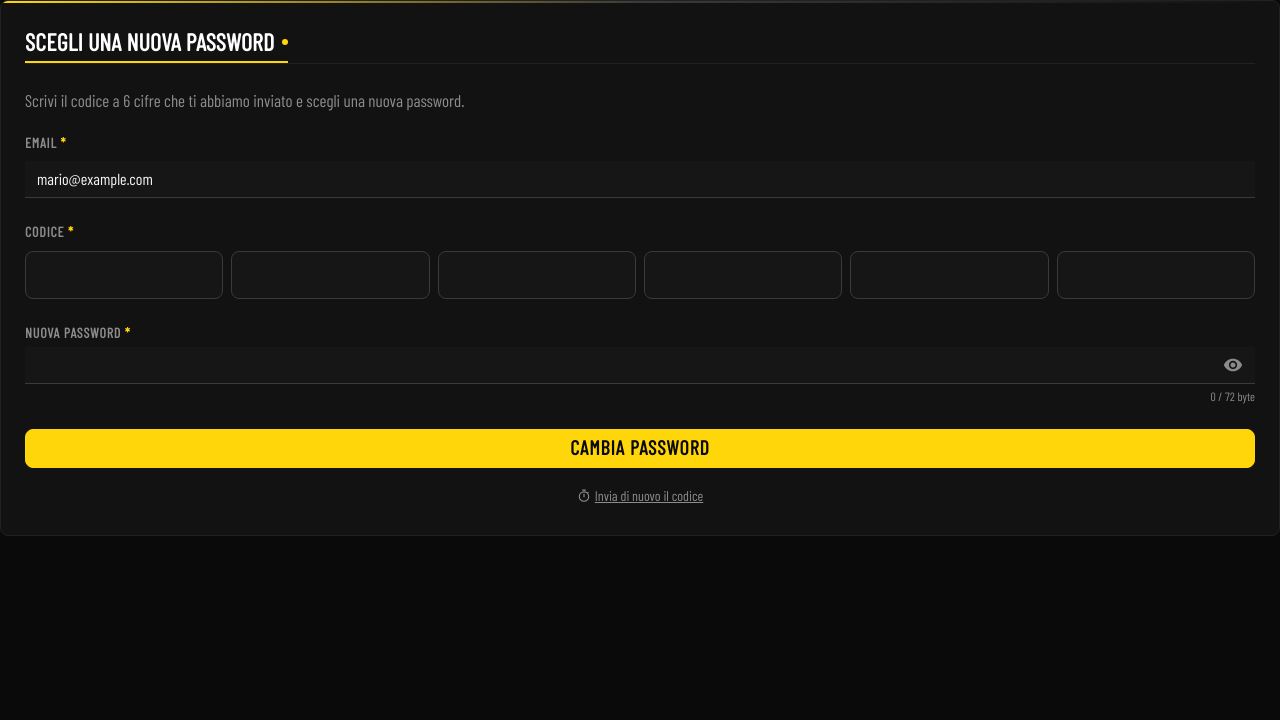
Test: ResetPasswordPage · errori del backend › ACCOUNT_SUSPENDED: mostra l’avviso con motivo e scadenza
The image size is (1280, 720).
Click the field named "Cifra 1 di 6". click: [124, 275]
box: x1=25 y1=251 x2=223 y2=299
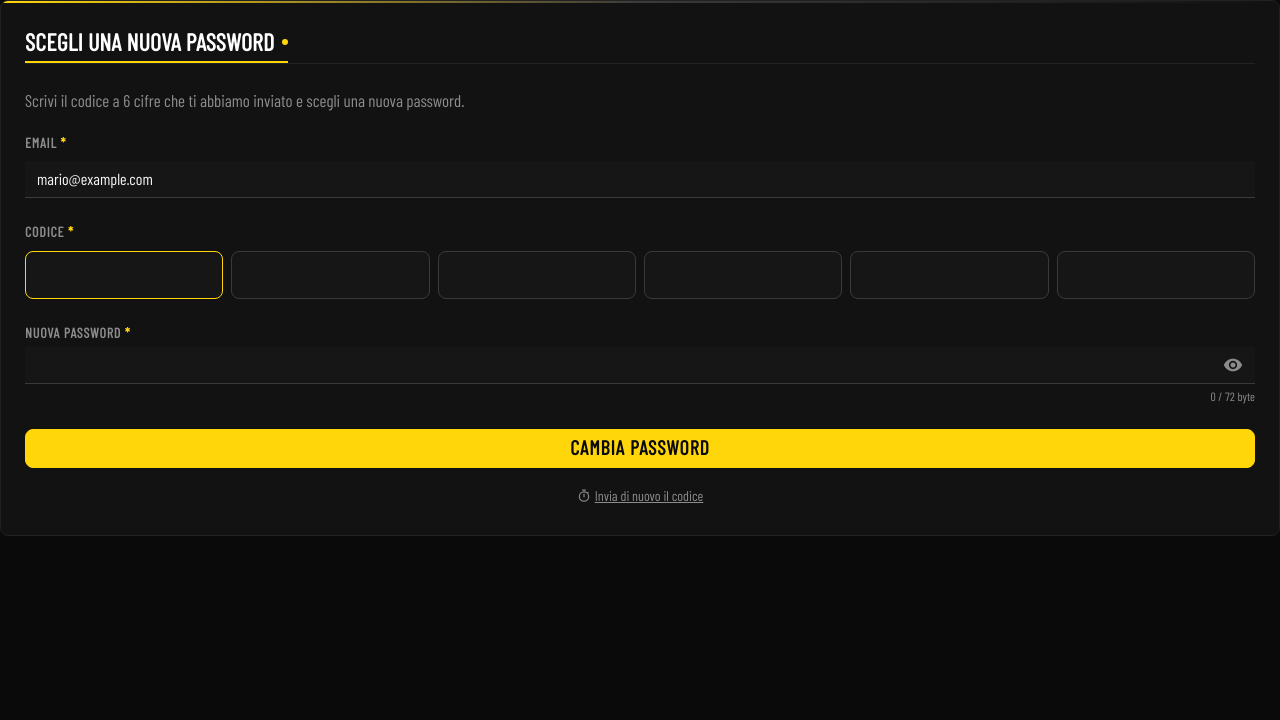
Type keys "482019"
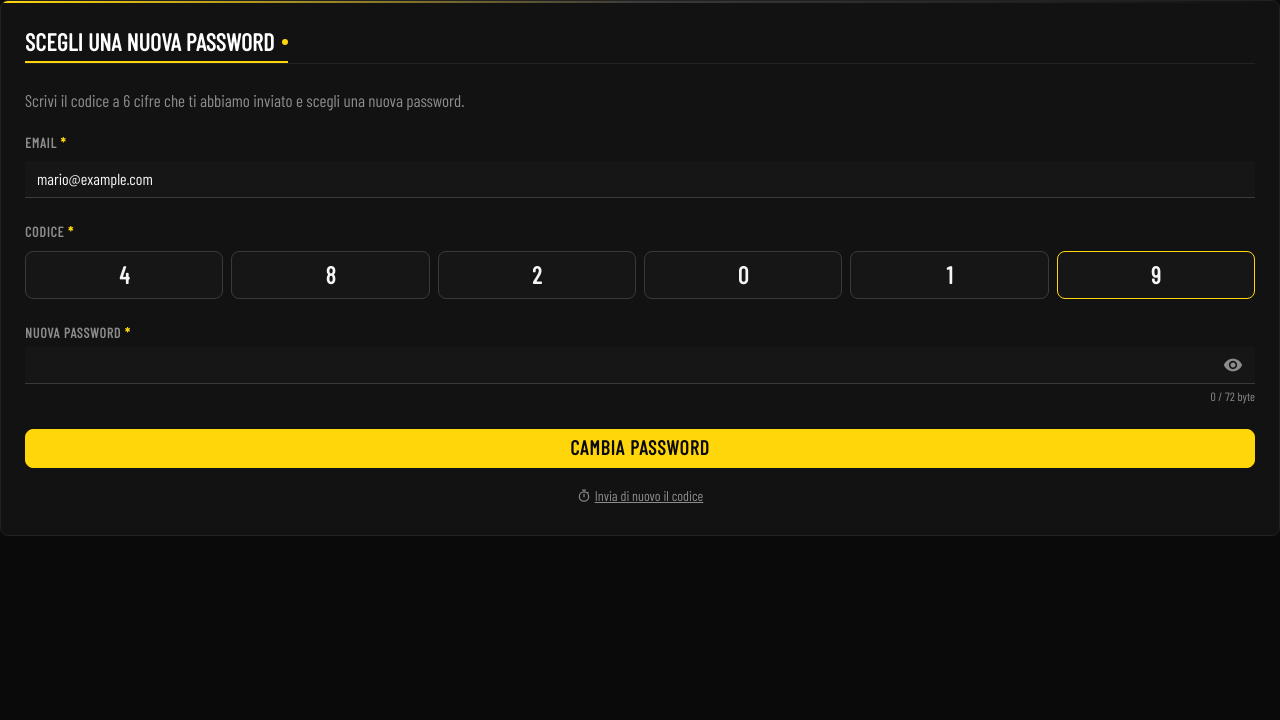
Type "nuova-password-1" into the password field labelled "Nuova password". click: [640, 365]
box: x1=25 y1=347 x2=1255 y2=384
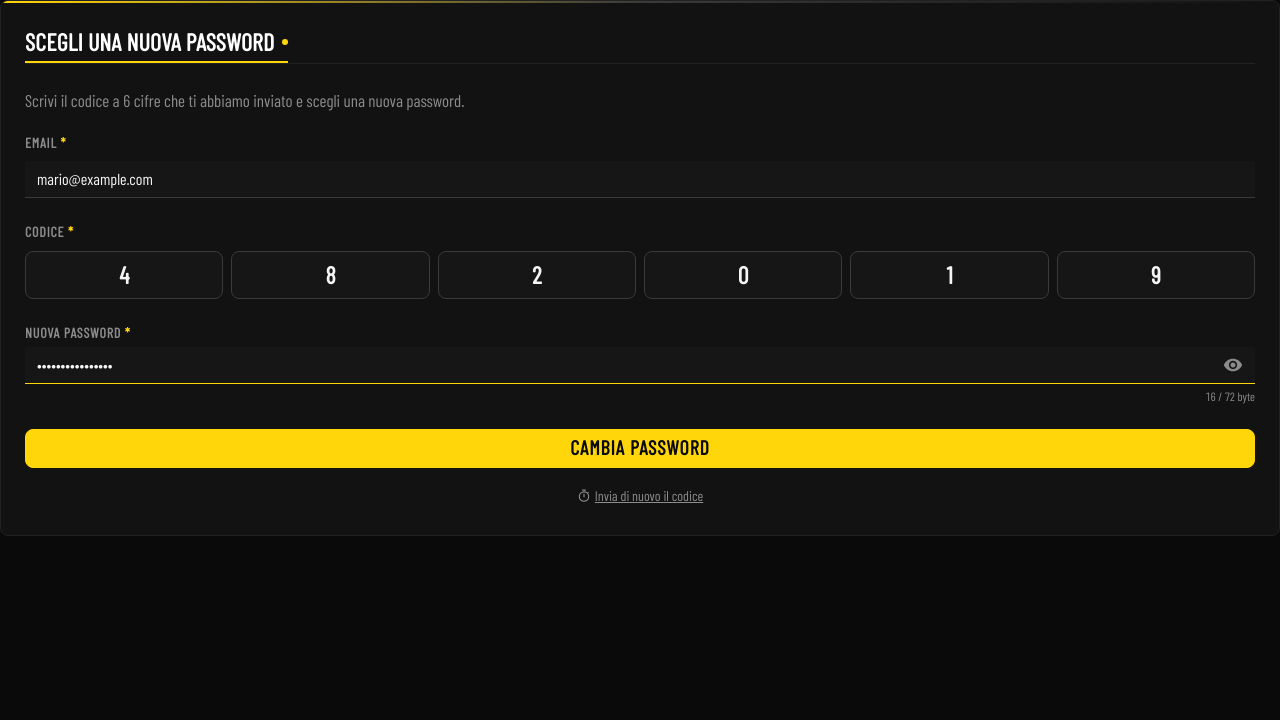
Click the button "Cambia password". click: [640, 449]
box: x1=25 y1=429 x2=1255 y2=468
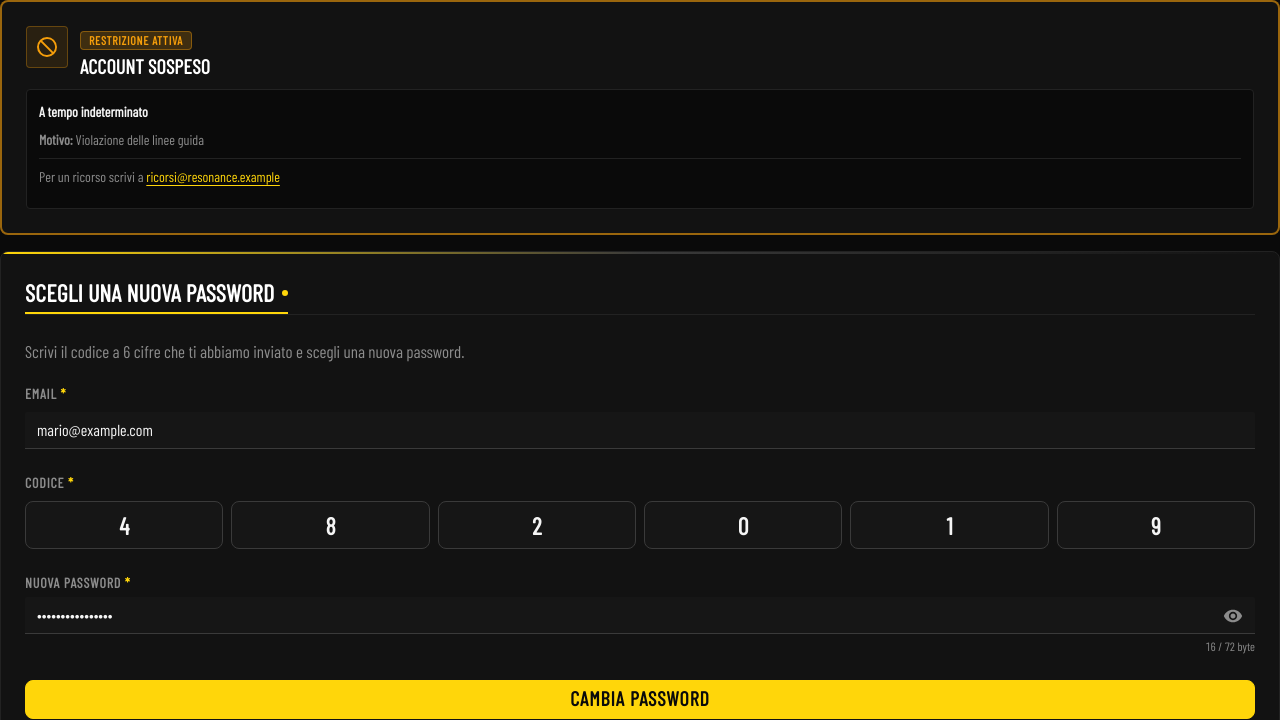
Result: the heading "Account sospeso" is shown at x1=80 y1=55 x2=210 y2=77
Result: the text "Motivo: Violazione delle linee guida" is shown at x1=39 y1=131 x2=204 y2=148
